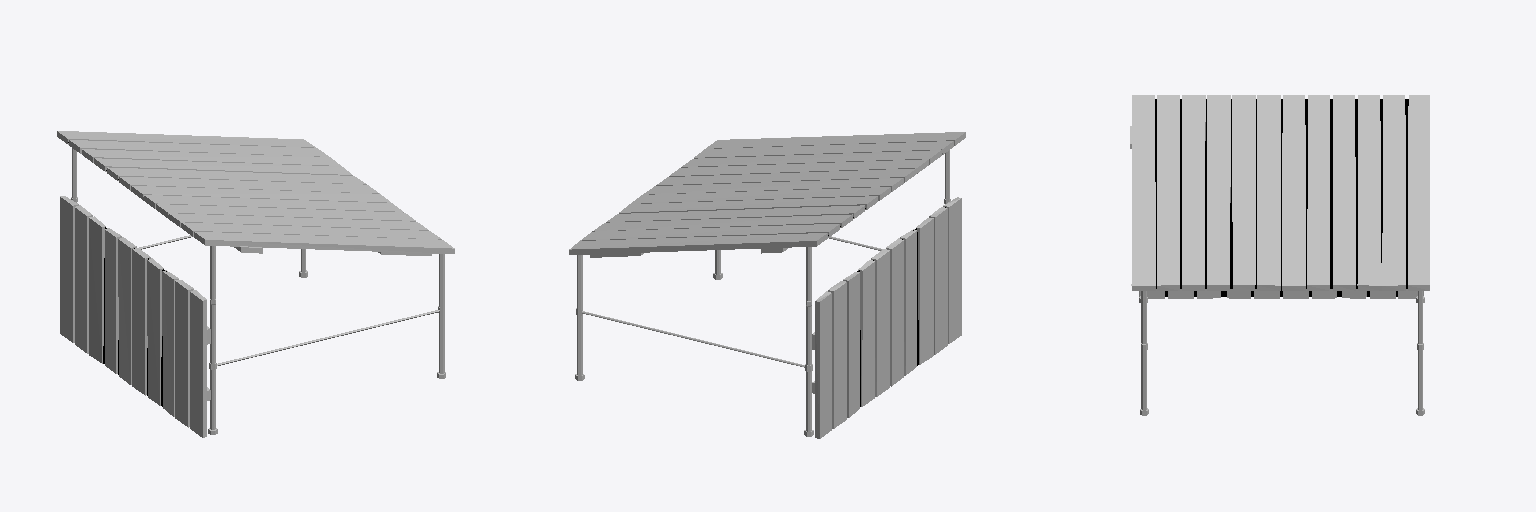
Rendered from DumpsterRoof.obj.
3 renders of one model, left to right at view 1: azimuth 30°, elevation 25°; view 2: azimuth 150°, elevation 25°; view 3: azimuth 270°, elevation 25°, orthographic.
Visible parts, largest first — view 1: Wood_Cube.003, PipeStructure_Cylinder.002; view 2: Wood_Cube.003, PipeStructure_Cylinder.002; view 3: Wood_Cube.003, Void_Plane.001, PipeStructure_Cylinder.002.
Boxes of the visible parts, box(x1,y1,x2,y2) form: Wood_Cube.003: box(57, 131, 454, 437); PipeStructure_Cylinder.002: box(71, 148, 445, 434); Wood_Cube.003: box(569, 132, 965, 438); PipeStructure_Cylinder.002: box(575, 150, 950, 436); Wood_Cube.003: box(1130, 95, 1429, 298); Void_Plane.001: box(1155, 99, 1408, 296); PipeStructure_Cylinder.002: box(1139, 291, 1424, 415).
Size of the model in its own units: 9.95 by 7.65 by 10.39.